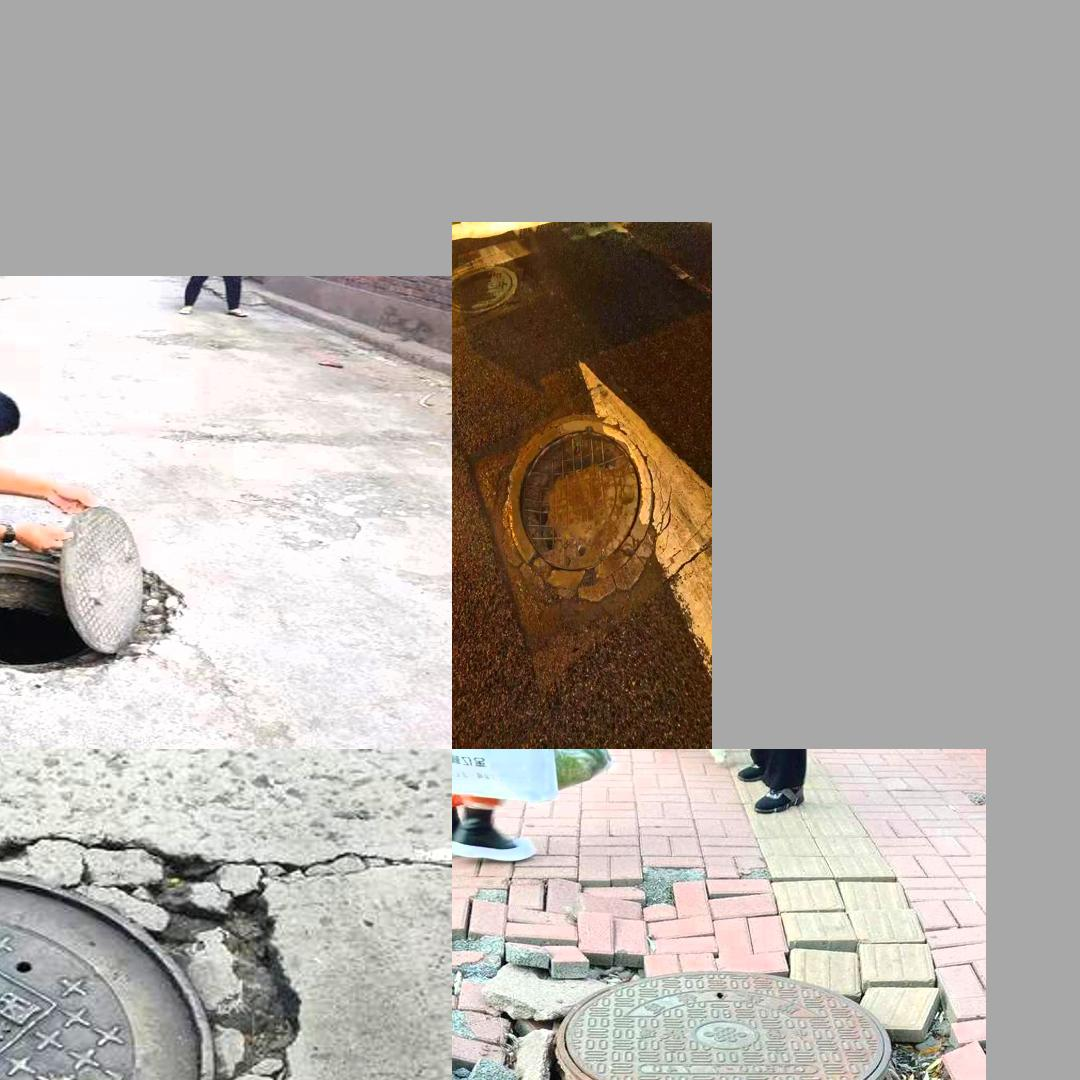circle: (458, 889, 974, 1080), (0, 815, 315, 1080), (476, 395, 693, 650), (0, 519, 210, 689)
